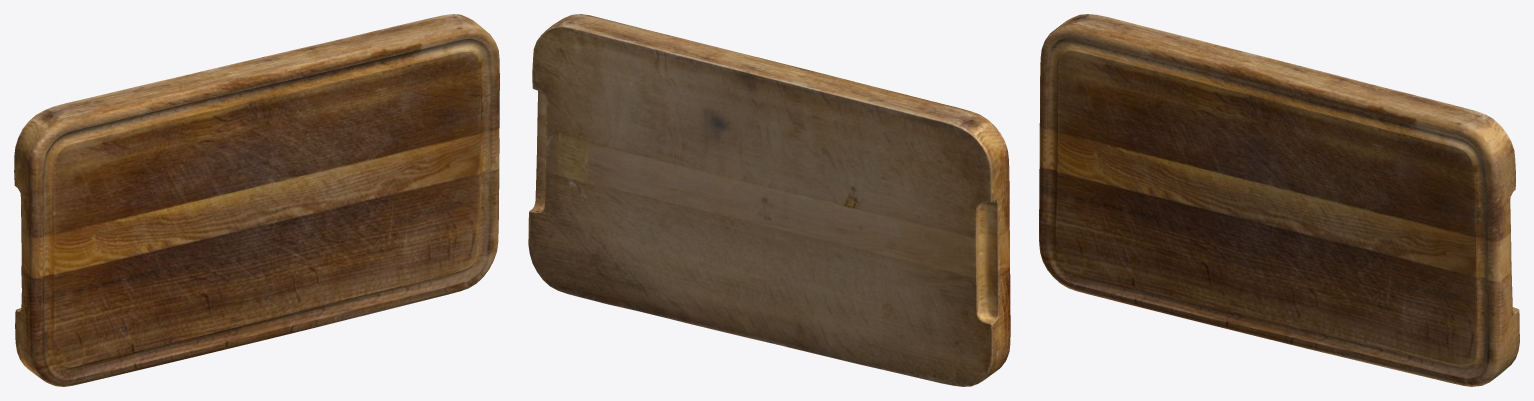
File: board.glb
3 renders of one model, left to right at view 1: azimuth 30°, elevation 25°; view 2: azimuth 150°, elevation 25°; view 3: azimuth 330°, elevation 25°, orthographic.
Visible parts, largest first — view 1: wooden_cutting_board; view 2: wooden_cutting_board; view 3: wooden_cutting_board.
Boxes of the visible parts, left/top/right/bottom form: wooden_cutting_board: left=14, top=14, right=499, bottom=386; wooden_cutting_board: left=528, top=14, right=1010, bottom=386; wooden_cutting_board: left=1039, top=14, right=1519, bottom=386.
Size of the model in its own units: 0.4499 by 0.2467 by 0.0412.
1 material, 1 textured.
